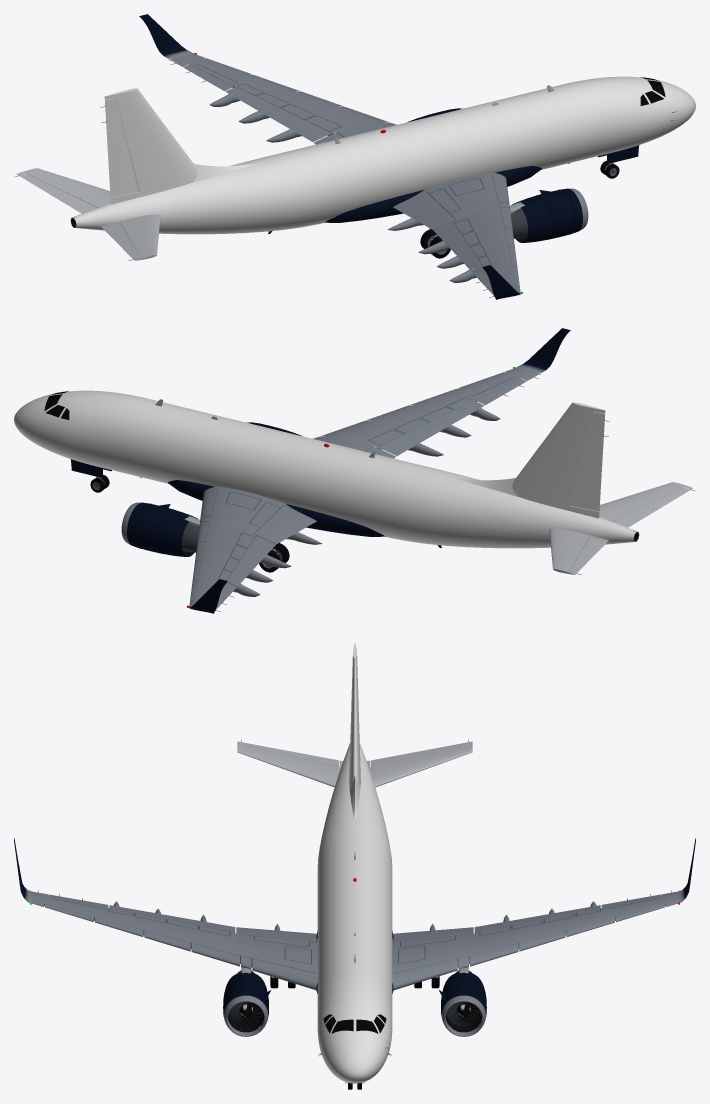
File: airliner.glb
The picture shows the model from 3 angles, top to bottom: view 1: azimuth 30°, elevation 25°; view 2: azimuth 150°, elevation 25°; view 3: azimuth 270°, elevation 25°; orthographic projection.
Visible parts, largest first — view 1: skin, paint, metal; view 2: skin, paint, metal; view 3: skin, paint, metal, glass.
Part boxes in pixels (box(x1,y1,x2,y2)): skin: box(73, 76, 695, 234); paint: box(16, 14, 582, 299); metal: box(70, 54, 677, 291); skin: box(14, 390, 636, 548); paint: box(127, 328, 693, 613); metal: box(32, 368, 639, 605); skin: box(317, 643, 392, 1083); paint: box(14, 741, 695, 1016); metal: box(32, 900, 677, 1055); glass: box(323, 1014, 386, 1033).
Bounding box in the file's own units: 7.43 × 2.32 × 7.09.
